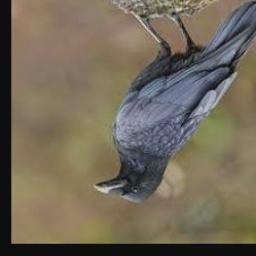Crow: (94, 0, 256, 204)
